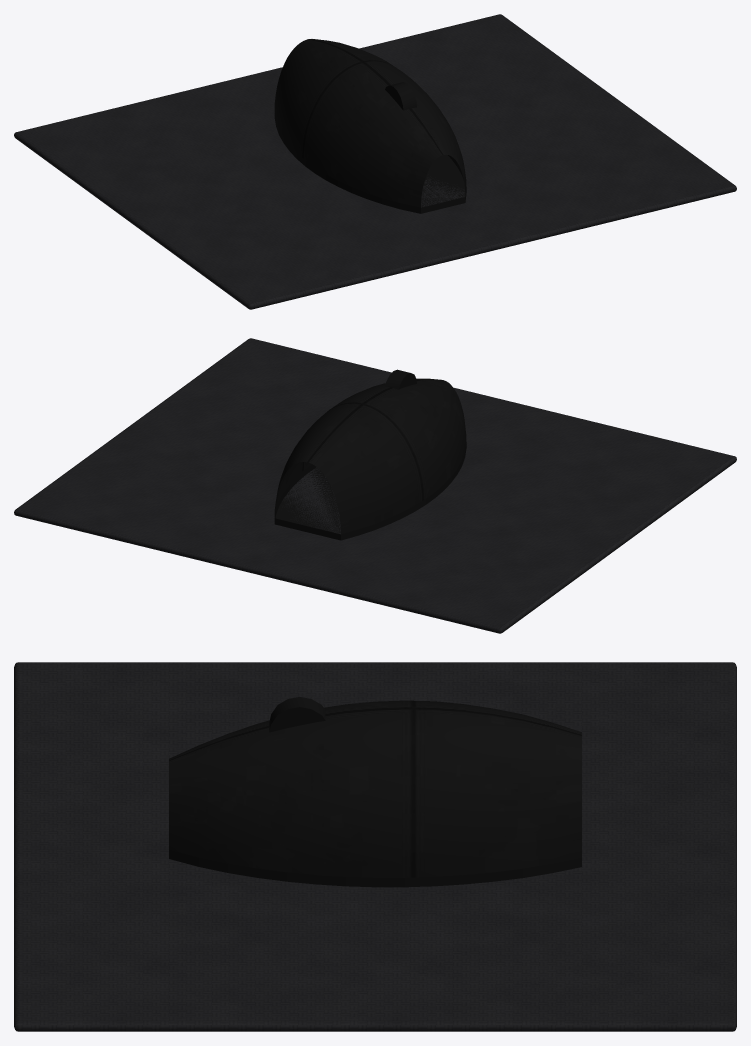
The model's file is Mouse.obj.
3 views of the same model, one above another, from view 1: azimuth 30°, elevation 25°; view 2: azimuth 150°, elevation 25°; view 3: azimuth 270°, elevation 25° (orthographic). The views are drawn at different scales.
Visible parts, largest first — view 1: Pad, Mouse, Rubber; view 2: Pad, Mouse, Rubber; view 3: Pad, Mouse, Rubber.
Part boxes in pixels (x1,y1,x2,y2): Pad: (14,14,736,309); Mouse: (274,39,466,207); Rubber: (274,82,466,213); Pad: (14,338,736,633); Mouse: (274,378,466,534); Rubber: (274,369,466,540); Pad: (14,662,736,1031); Mouse: (169,700,581,877); Rubber: (169,697,581,887).
Bounding box in the file's own units: 0.25 × 0.048 × 0.21.
Materials: 3 (2 with a texture image).
